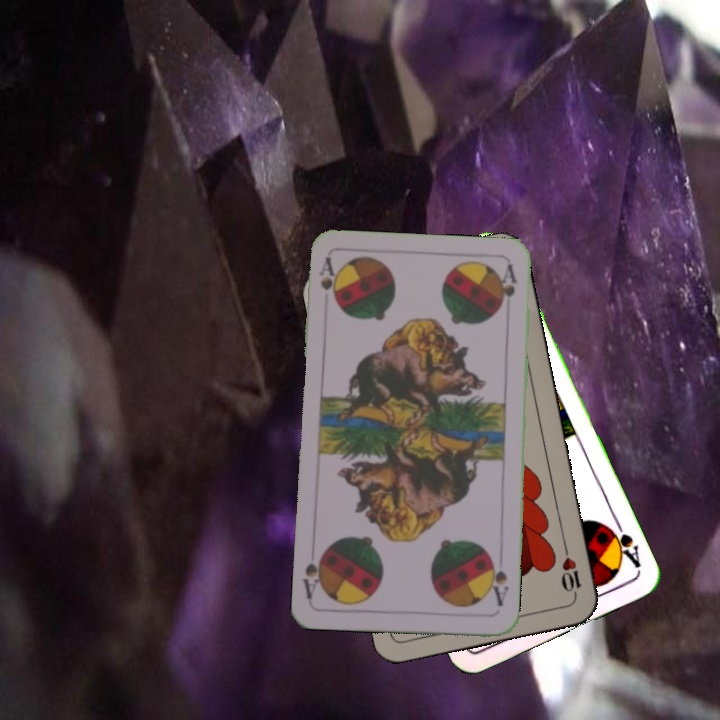H10: (557, 541, 584, 600)
SA: (601, 515, 644, 571), (485, 552, 511, 609), (316, 254, 341, 307)
